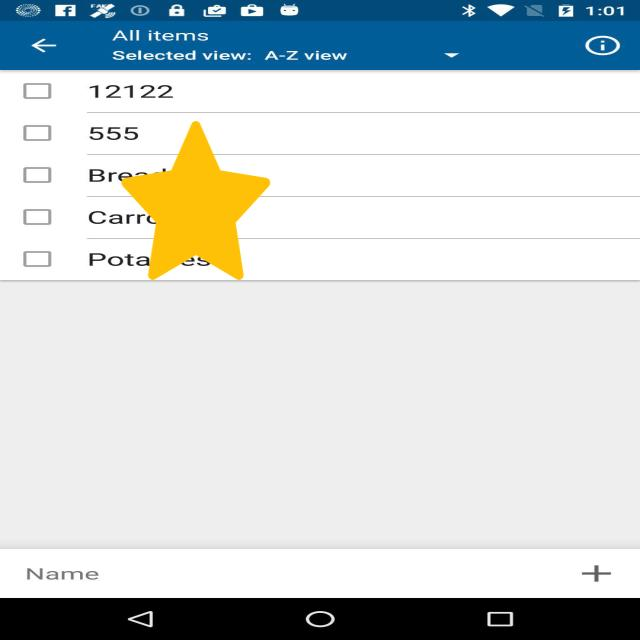forced continuity: (122, 121, 270, 280)
